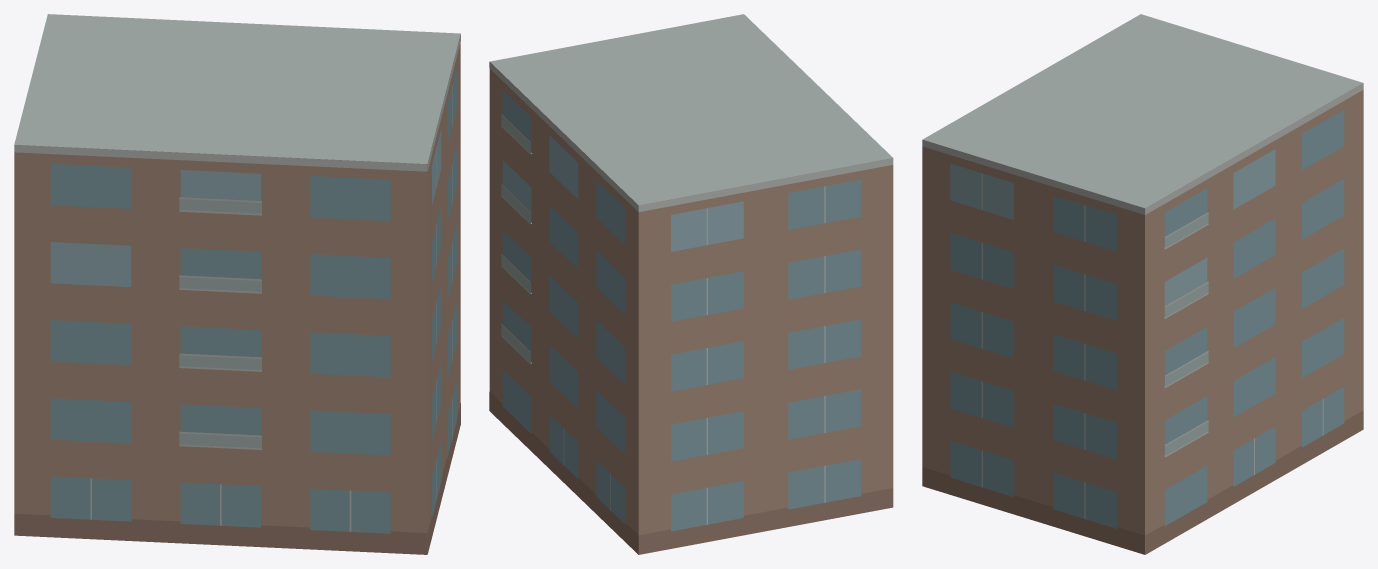
The model's file is survey-upis-32968566.glb.
3 views of the same model, side by side, from view 1: azimuth 30°, elevation 25°; view 2: azimuth 150°, elevation 25°; view 3: azimuth 270°, elevation 25° (orthographic). The views are drawn at different scales.
Visible parts, largest first — view 1: survey-upis-32968566.tmp; view 2: survey-upis-32968566.tmp; view 3: survey-upis-32968566.tmp.
Part boxes in pixels (box(x1,y1,x2,y2)): survey-upis-32968566.tmp: box(14, 14, 460, 554); survey-upis-32968566.tmp: box(489, 14, 893, 554); survey-upis-32968566.tmp: box(922, 14, 1363, 554).
Size of the model in its own units: 15.1 by 12.55 by 14.49.
